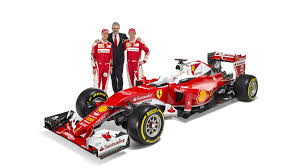FormulaOneCar: (42, 51, 261, 159)
